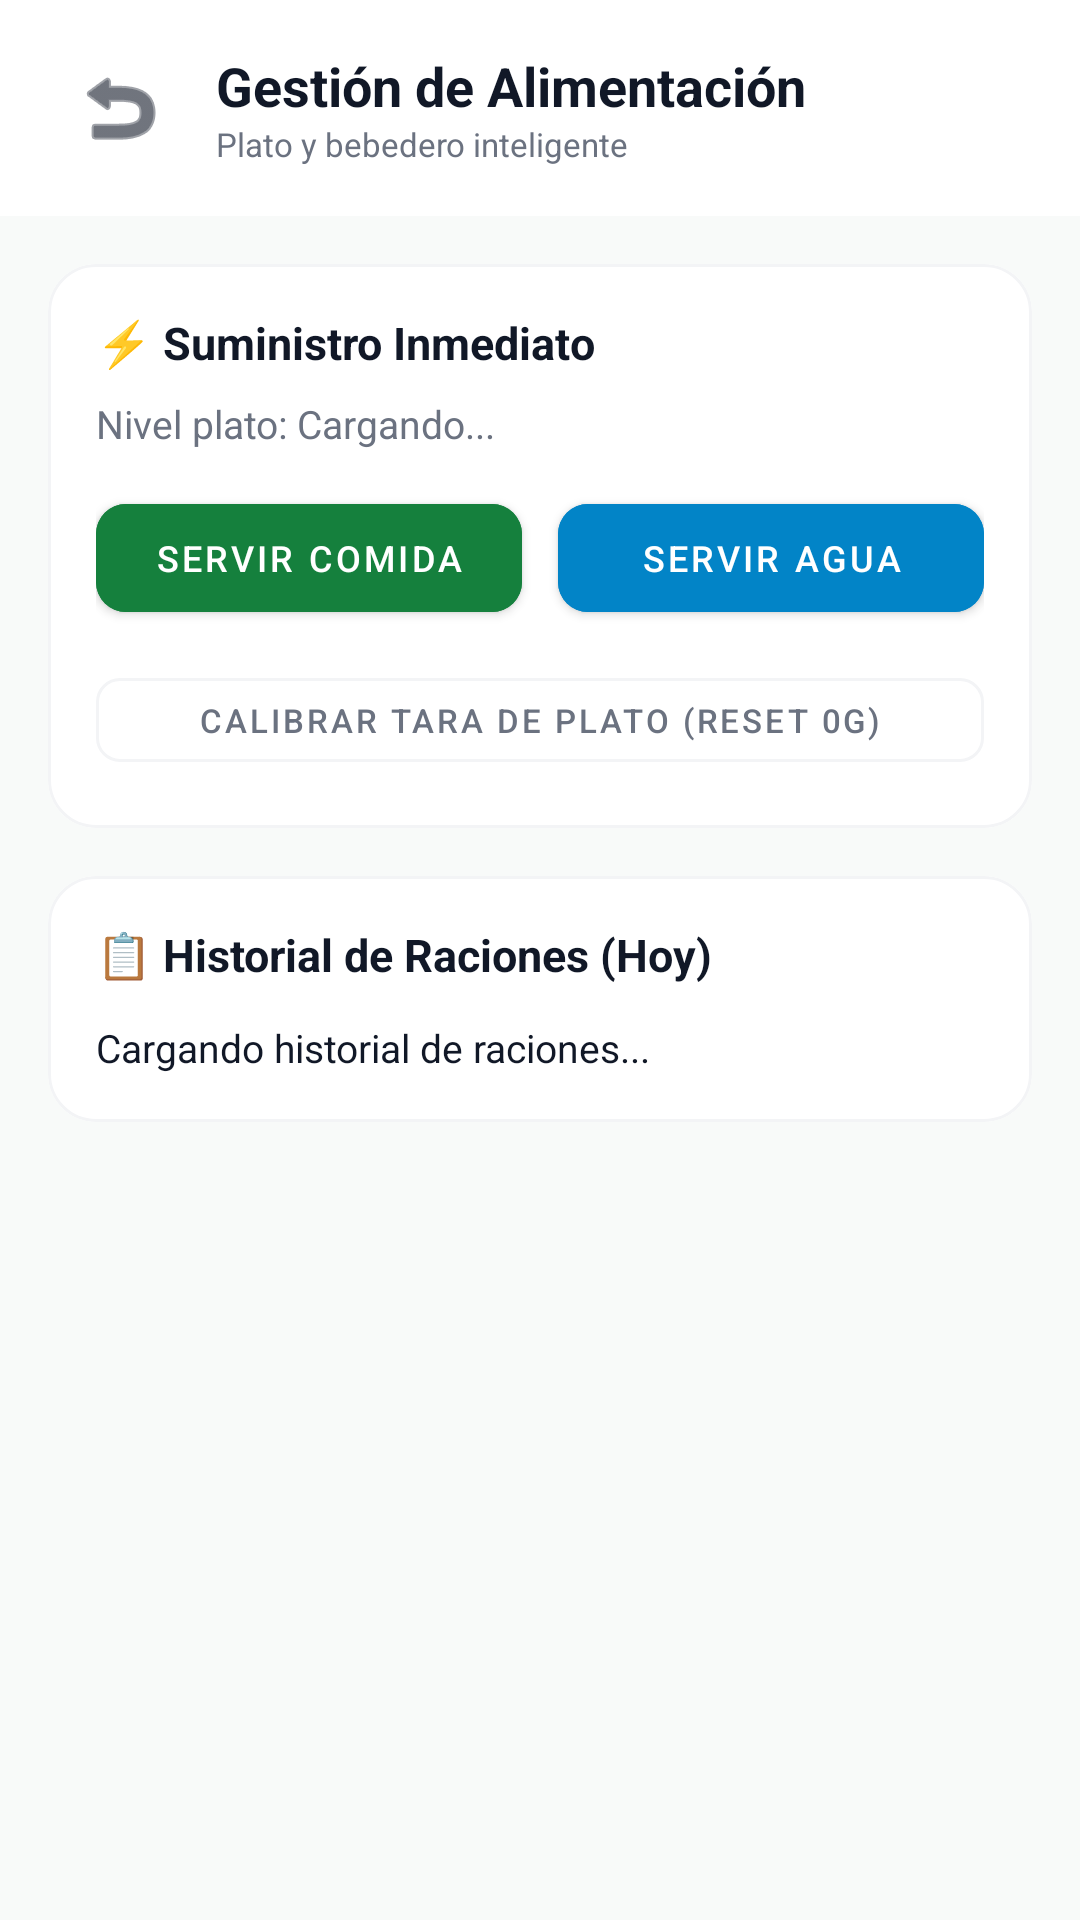

Where icons sit on this 1080px x 1920px app screen, as (x1, y1, x2, y2):
Atrás: (87, 77, 156, 140)
